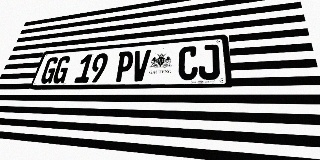1: (74, 54, 95, 83)
9: (88, 53, 109, 83)
C: (178, 46, 198, 80)
G: (39, 57, 60, 84), (51, 56, 72, 83)
J: (198, 44, 220, 80)
P: (114, 51, 135, 82)
V: (130, 49, 151, 82)
